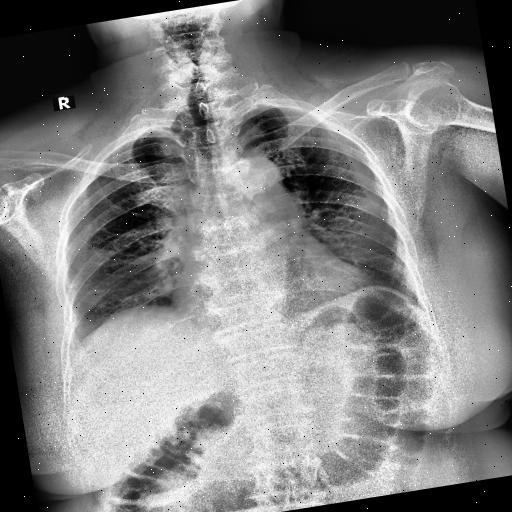0- Aortic enlargement: (222, 150, 290, 212), (218, 151, 284, 200), (215, 154, 278, 196)
3- Cardiomegaly: (168, 250, 374, 326), (166, 259, 376, 331)
